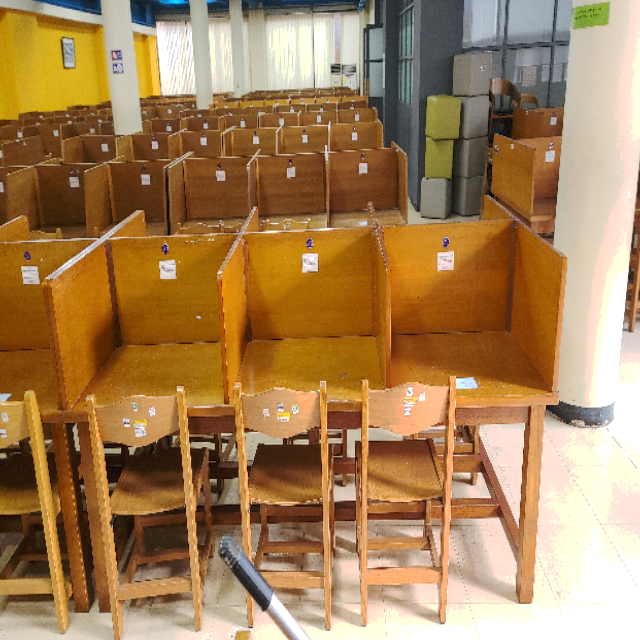empty: (390, 208, 561, 494), (58, 227, 220, 505), (236, 209, 382, 499)
